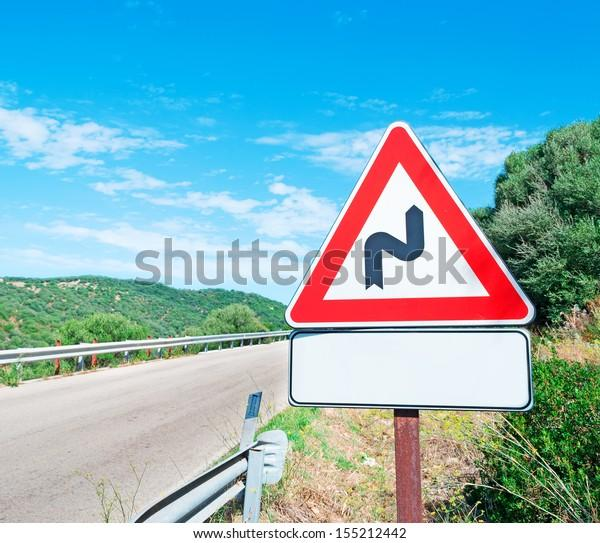Right Reverse Bend: (283, 129, 542, 328)
